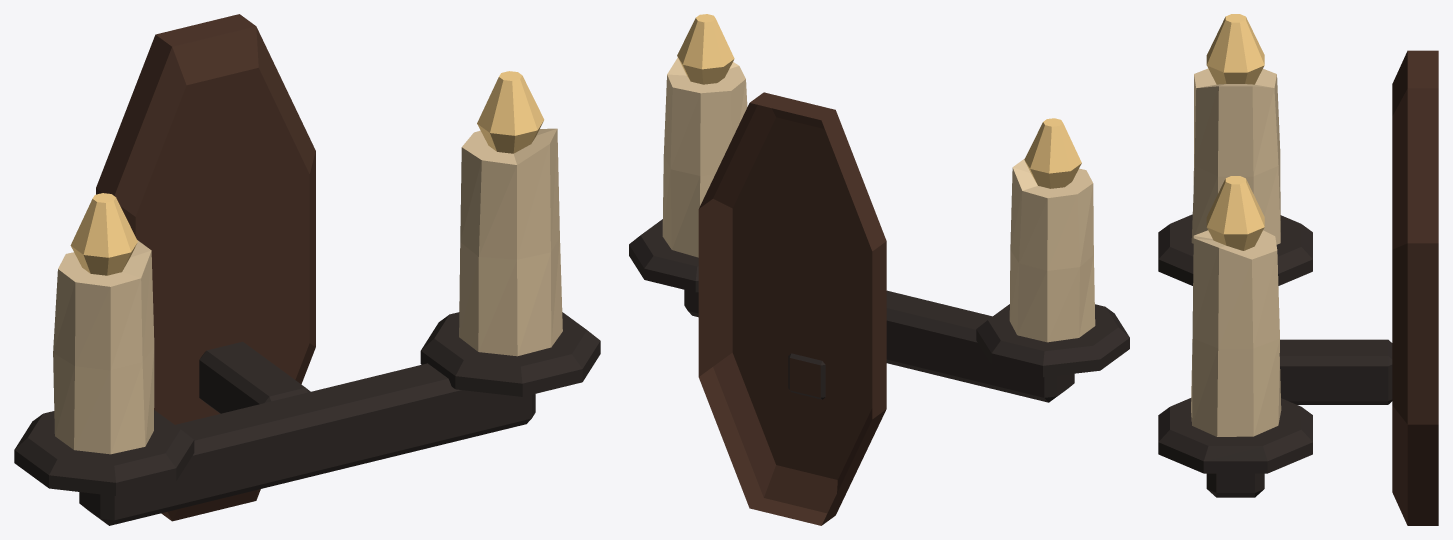
The model's file is WallLightCandle.fbx.
The picture shows the model from 3 angles, left to right: view 1: azimuth 30°, elevation 25°; view 2: azimuth 150°, elevation 25°; view 3: azimuth 270°, elevation 25°; orthographic projection. The views are drawn at different scales.
Visible parts, largest first — view 1: WallLightCandle_Plate, WallLightCandle_Bar, WallLightCandle_Sleeve, WallLightCandle_Bulb; view 2: WallLightCandle_Plate, WallLightCandle_Sleeve, WallLightCandle_Bar, WallLightCandle_Bulb; view 3: WallLightCandle_Sleeve, WallLightCandle_Plate, WallLightCandle_Bar, WallLightCandle_Bulb.
Part boxes in pixels (x1=…): WallLightCandle_Plate: x1=96, y1=14, x2=315, y2=521; WallLightCandle_Bar: x1=14, y1=312, x2=600, y2=525; WallLightCandle_Sleeve: x1=53, y1=128, x2=562, y2=454; WallLightCandle_Bulb: x1=70, y1=71, x2=544, y2=275; WallLightCandle_Plate: x1=698, y1=92, x2=886, y2=525; WallLightCandle_Sleeve: x1=662, y1=57, x2=1095, y2=342; WallLightCandle_Bar: x1=629, y1=219, x2=1129, y2=402; WallLightCandle_Bulb: x1=677, y1=14, x2=1081, y2=188; WallLightCandle_Sleeve: x1=1191, y1=68, x2=1281, y2=436; WallLightCandle_Plate: x1=1392, y1=50, x2=1438, y2=525; WallLightCandle_Bar: x1=1158, y1=214, x2=1392, y2=497; WallLightCandle_Bulb: x1=1206, y1=14, x2=1264, y2=250.
Size of the model in its own units: 1.52 by 1.25 by 0.725.
